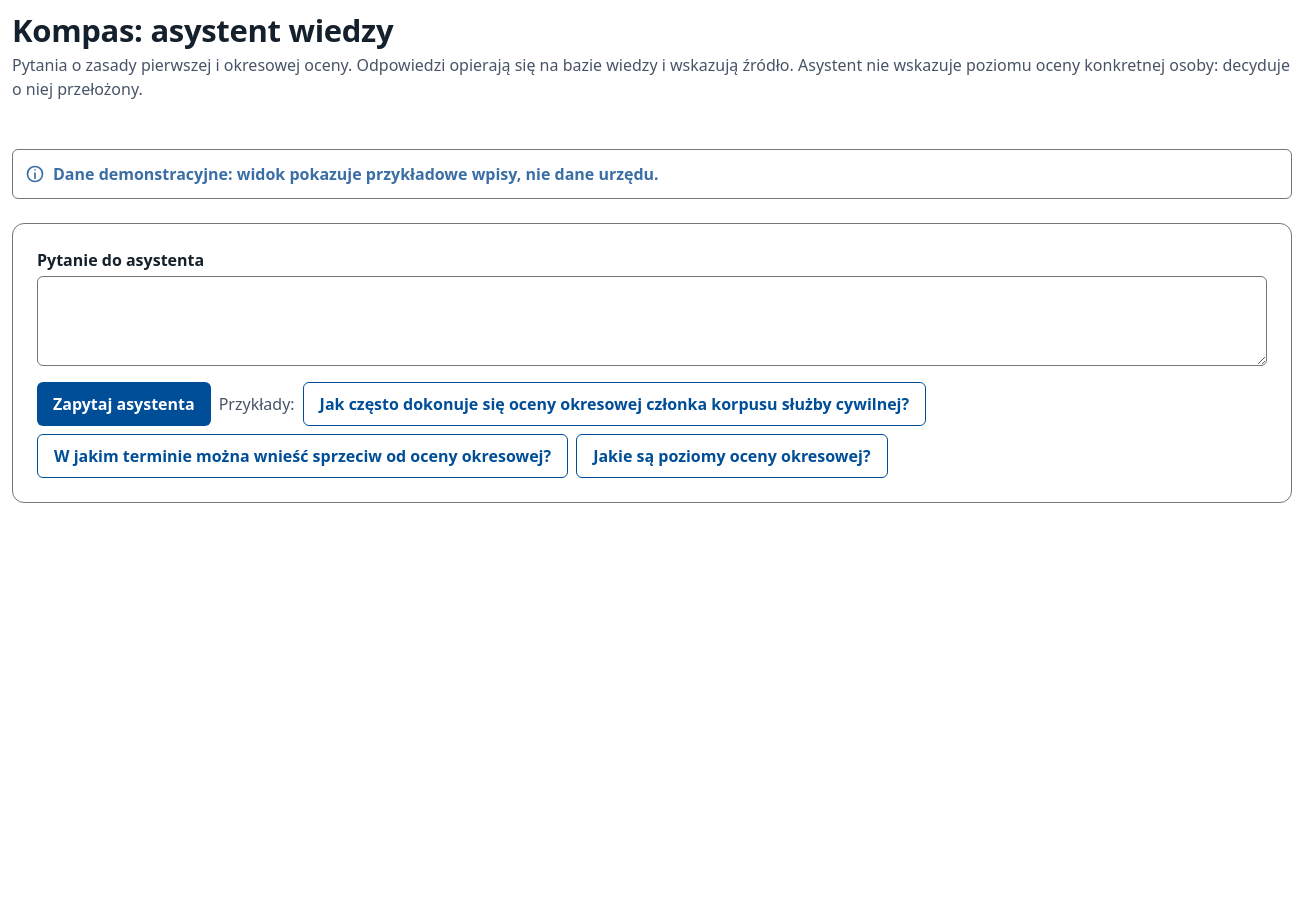
Test: AssistantPage › shows the answer with citations split into office documents and law
Type "Jak często jest ocena?" into the text box labelled "Pytanie do asystenta" at coordinates (652, 321), box x1=37 y1=276 x2=1267 y2=366
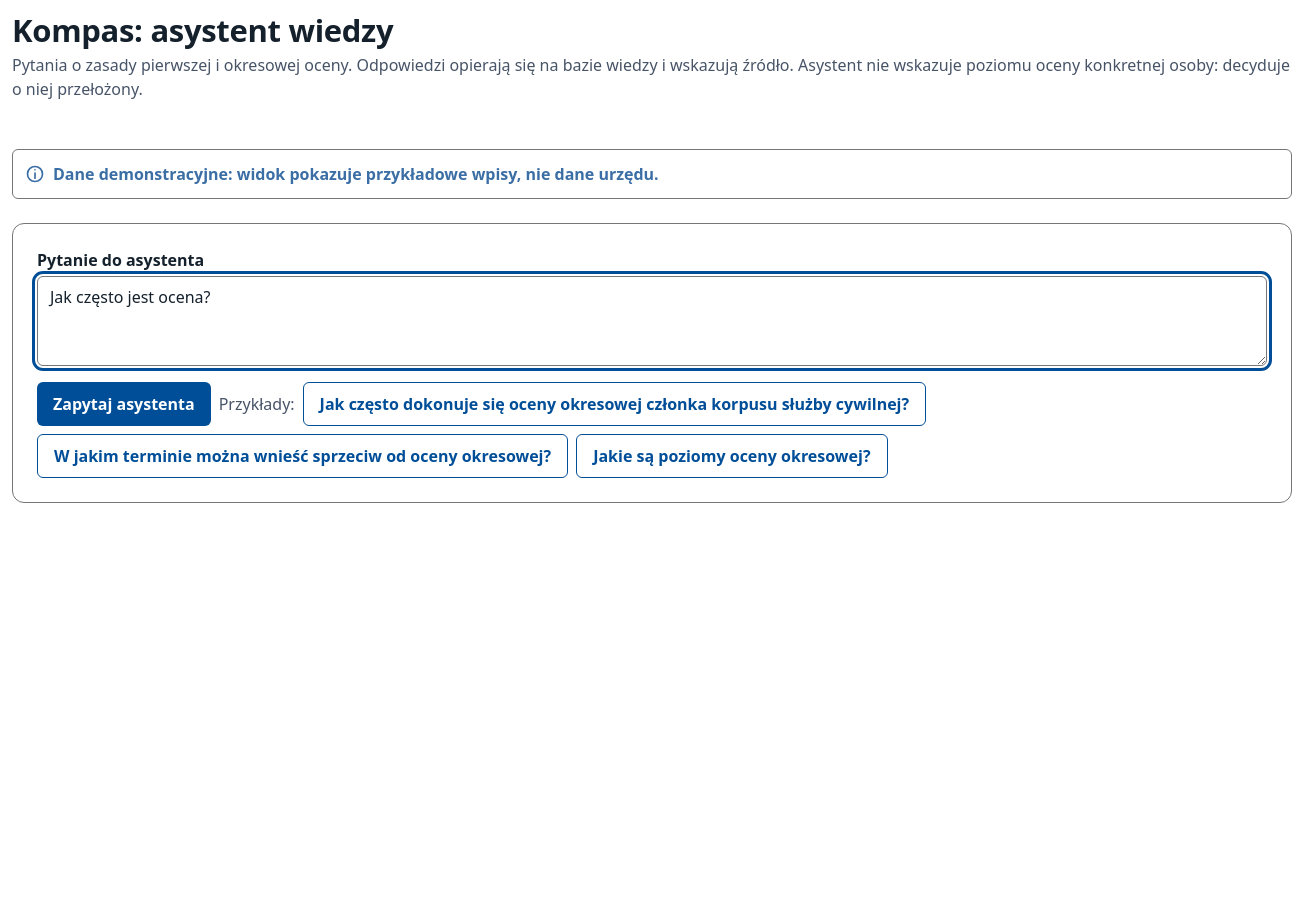
Click the button "Zapytaj asystenta" at coordinates (124, 404), box x1=37 y1=382 x2=211 y2=426
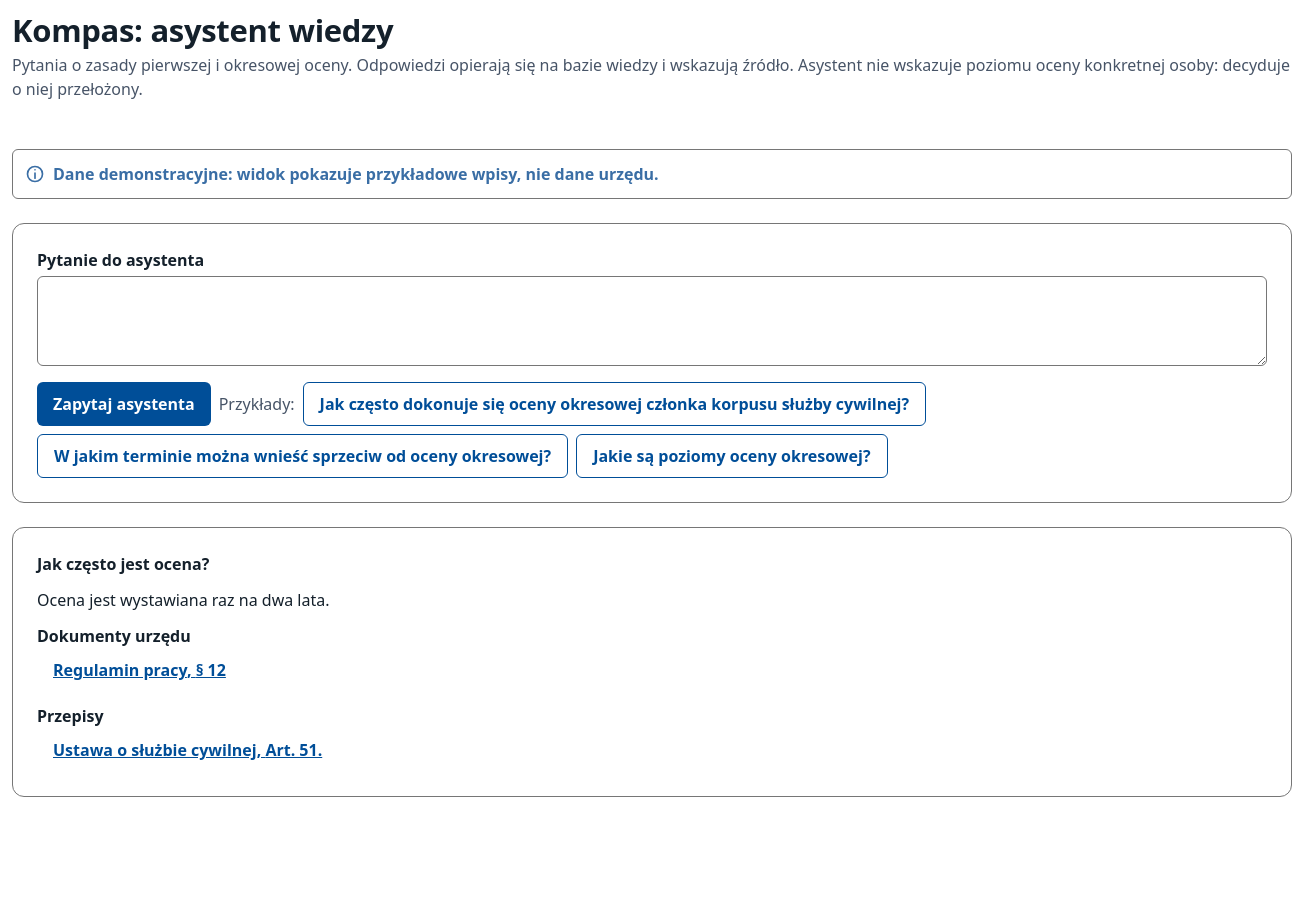
Expected: the text "Ocena jest wystawiana raz na dwa lata." is shown, x1=37 y1=589 x2=330 y2=611
Expected: the heading "Dokumenty urzędu" is shown, x1=37 y1=625 x2=191 y2=647
Expected: the heading "Przepisy" is shown, x1=37 y1=705 x2=104 y2=727
